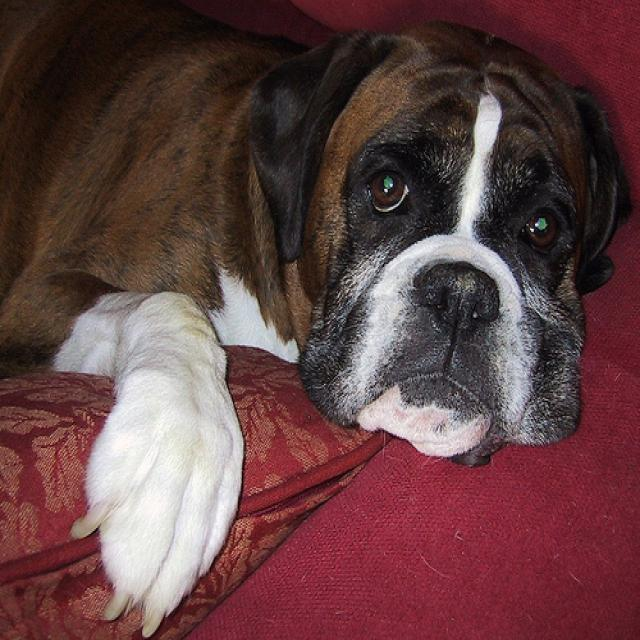dog-boxer: (1, 2, 637, 637)
